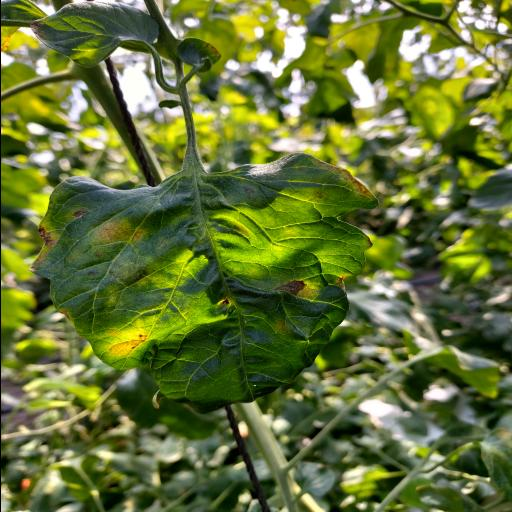Leaf Mold: (30, 154, 376, 416)
